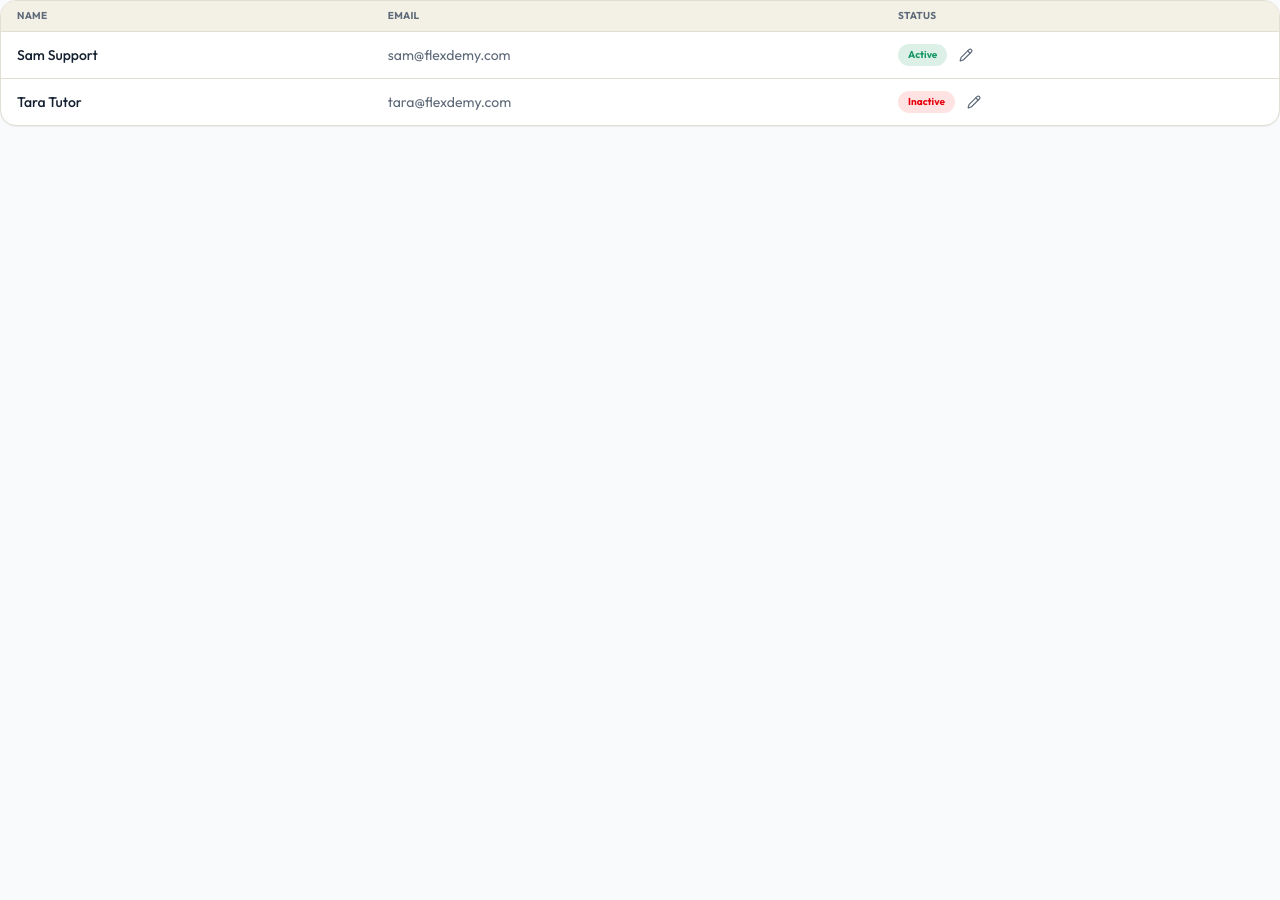
Scenario: AdminUserStatusList › edit (Support-user editing only, gated by the `editable` prop) › clicking Edit opens a docked-right side panel prefilled with the row's current FirstName/LastName/Email
Expected: the text "Sam Support" is shown, [1,32,372,79]
Click the button named "Edit Sam Support" at (966, 55), box [953,42,979,68]
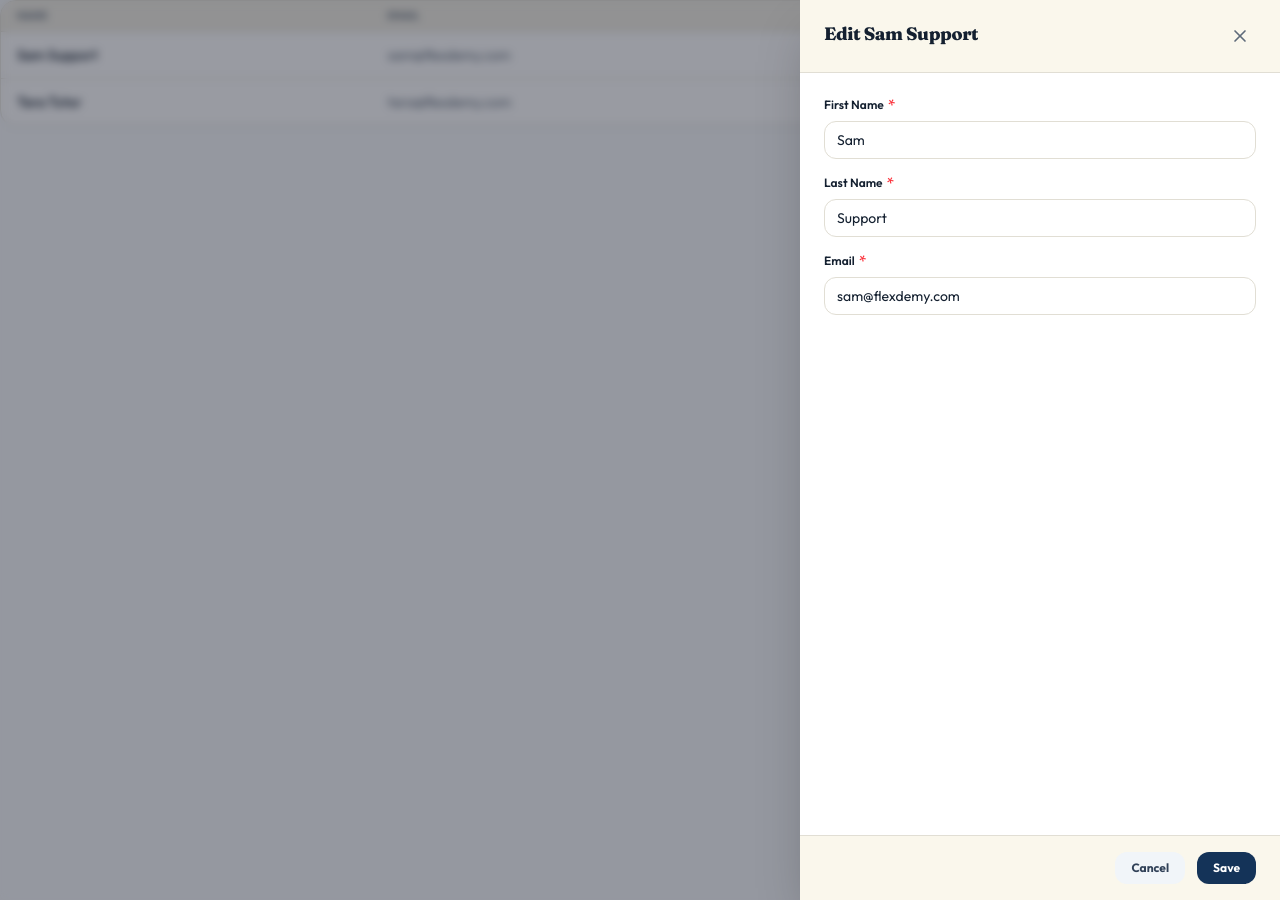
Now the field labelled "First Name" holds "Sam", box [824,121,1256,159]
Now the field labelled "Last Name" holds "Support", box [824,199,1256,237]
Now the field labelled "Email" holds "sam@flexdemy.com", box [824,277,1256,315]
